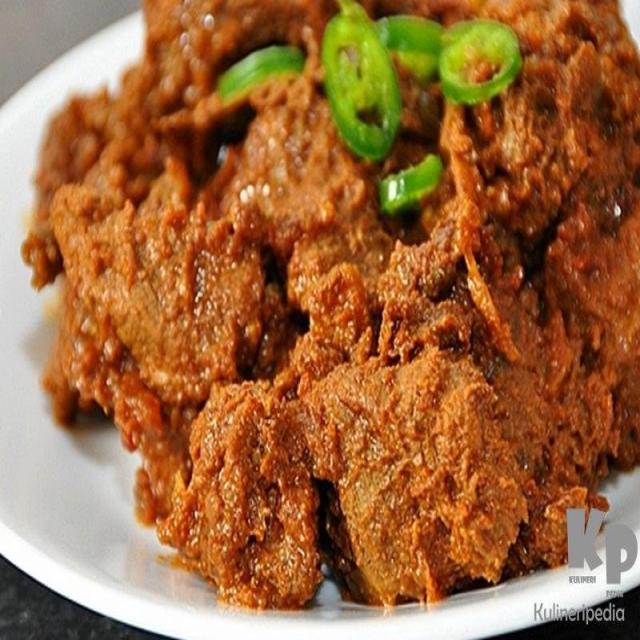Rendang: (33, 1, 640, 612)
